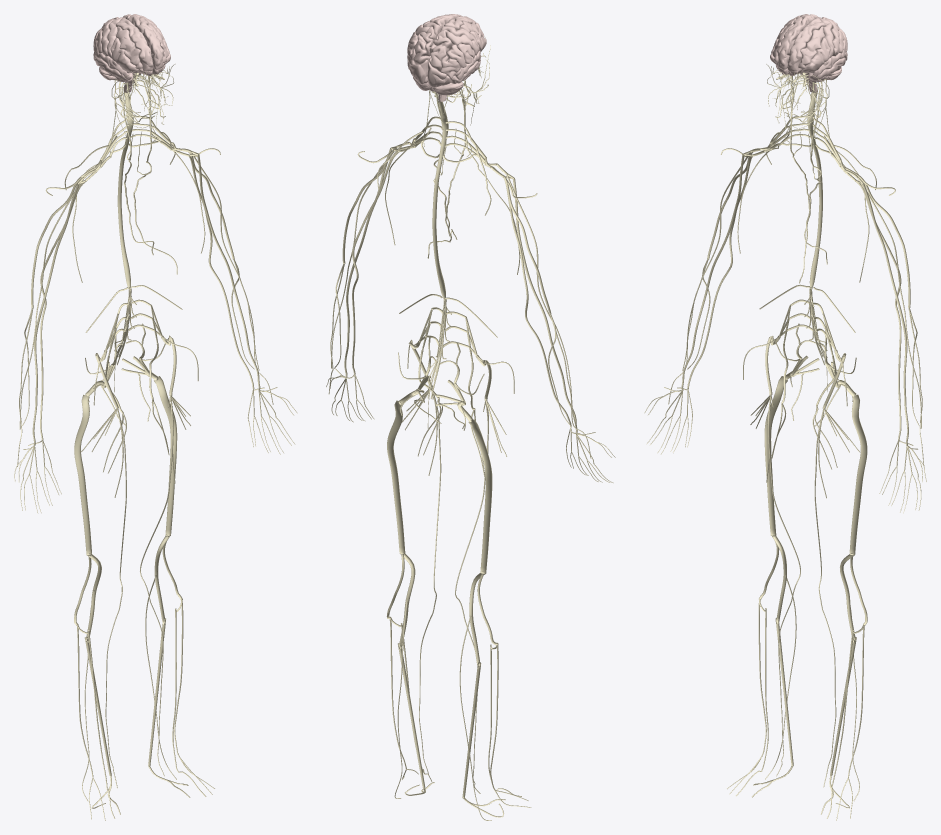
The model's file is nervous.glb.
3 views of the same model, side by side, from view 1: azimuth 30°, elevation 25°; view 2: azimuth 150°, elevation 25°; view 3: azimuth 330°, elevation 25° (orthographic). The views are drawn at different scales.
Parts seen in each view (by area): view 1: left tibial nerve, right median nerve, right femoral nerve, right tibial nerve, left median nerve, left femoral nerve, right sciatic nerve, left sciatic nerve, spinal cord, right brachial plexus, right radial nerve, right ulnar nerve (+8 smaller); view 2: right tibial nerve, left tibial nerve, left femoral nerve, right sciatic nerve, right median nerve, left sciatic nerve, spinal cord, right femoral nerve, right brachial plexus, left median nerve, right radial nerve, left brachial plexus (+8 smaller); view 3: right tibial nerve, left median nerve, left femoral nerve, right median nerve, left tibial nerve, right femoral nerve, left sciatic nerve, right sciatic nerve, spinal cord, left radial nerve, left brachial plexus, right brachial plexus (+8 smaller).
Part boxes in pixels (x1,y1,x2,y2): left tibial nerve: [145, 534, 190, 797]; right median nerve: [14, 177, 85, 513]; right femoral nerve: [81, 350, 126, 788]; right tibial nerve: [82, 553, 120, 814]; left median nerve: [189, 151, 297, 454]; left femoral nerve: [140, 335, 190, 776]; right sciatic nerve: [74, 394, 91, 555]; left sciatic nerve: [154, 376, 177, 536]; spinal cord: [117, 92, 133, 289]; right brachial plexus: [64, 116, 129, 282]; right radial nerve: [17, 177, 81, 466]; right ulnar nerve: [28, 182, 85, 505]; right tibial nerve: [459, 571, 505, 820]; left tibial nerve: [394, 552, 434, 798]; left femoral nerve: [401, 341, 441, 781]; right sciatic nerve: [468, 419, 492, 574]; right median nerve: [505, 173, 615, 483]; left sciatic nerve: [387, 400, 405, 554]; spinal cord: [432, 101, 448, 302]; right femoral nerve: [455, 355, 506, 793]; right brachial plexus: [442, 121, 520, 274]; left median nerve: [326, 146, 397, 422]; right radial nerve: [503, 176, 591, 458]; left brachial plexus: [377, 116, 443, 245]; right tibial nerve: [752, 534, 796, 797]; left median nerve: [855, 177, 926, 513]; left femoral nerve: [814, 350, 860, 787]; right median nerve: [644, 151, 751, 454]; left tibial nerve: [821, 553, 859, 814]; right femoral nerve: [750, 335, 800, 776]; left sciatic nerve: [849, 394, 867, 555]; right sciatic nerve: [764, 376, 787, 536]; spinal cord: [807, 92, 822, 288]; left radial nerve: [860, 177, 924, 465]; left brachial plexus: [812, 116, 876, 282]; right brachial plexus: [737, 115, 813, 253].
Size of the model in its own units: 0.6454 by 1.69 by 0.2014.
